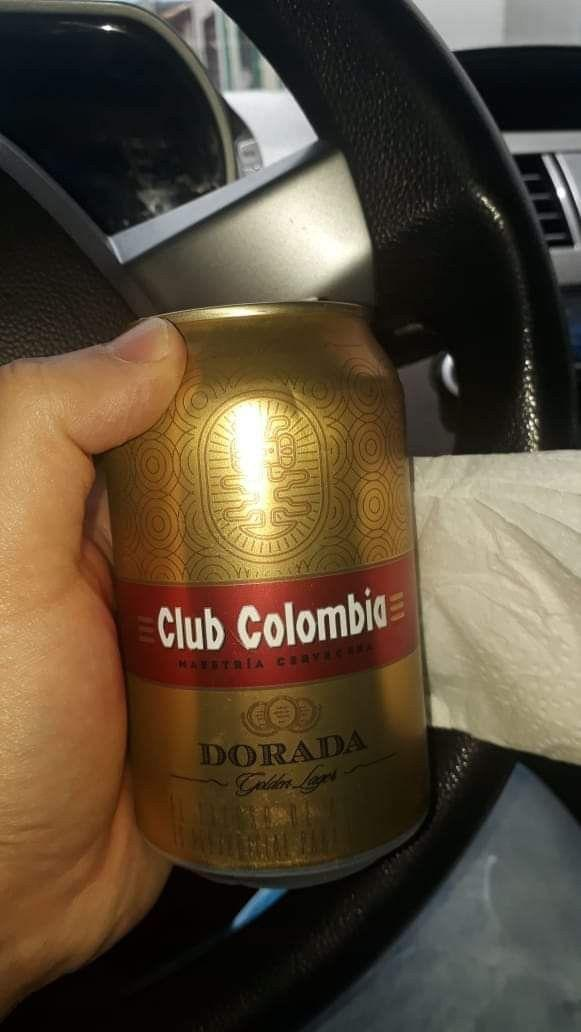lata: (95, 296, 439, 895)
